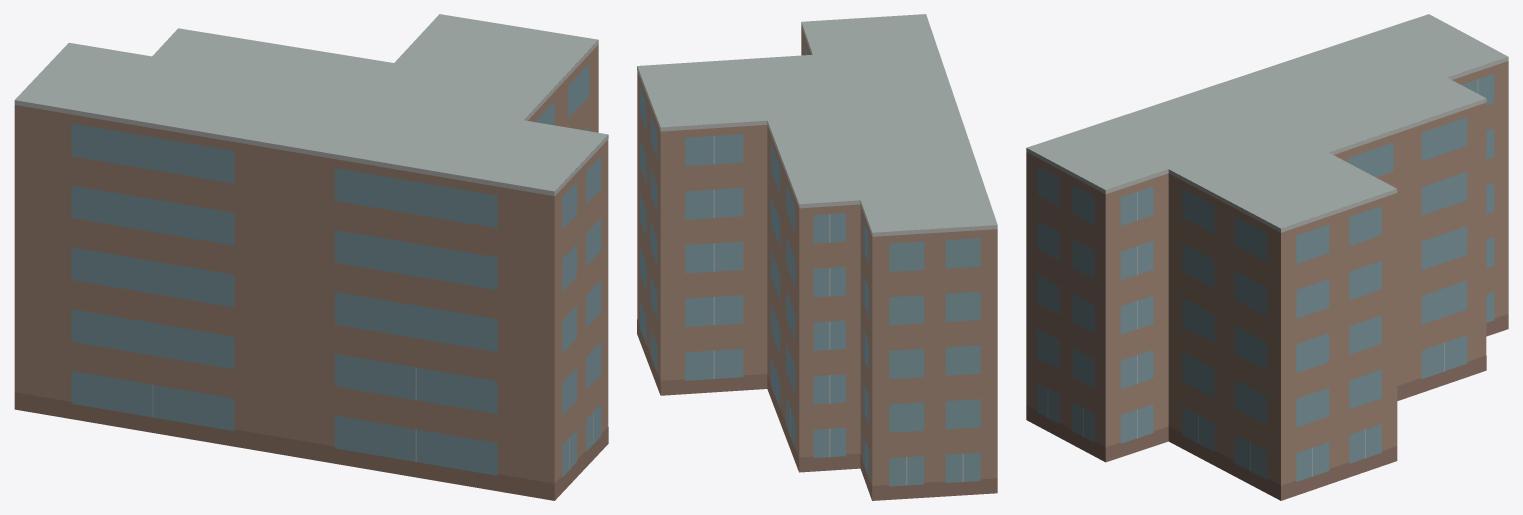
File: survey-upis-32648287.glb
3 renders of one model, left to right at view 1: azimuth 30°, elevation 25°; view 2: azimuth 150°, elevation 25°; view 3: azimuth 270°, elevation 25°, orthographic. The views are drawn at different scales.
Visible parts, largest first — view 1: survey-upis-32648287.tmp; view 2: survey-upis-32648287.tmp; view 3: survey-upis-32648287.tmp.
Boxes of the visible parts, x1,y1,x2,y2 form: survey-upis-32648287.tmp: (14, 14, 608, 500); survey-upis-32648287.tmp: (637, 14, 997, 500); survey-upis-32648287.tmp: (1026, 14, 1508, 500).
Size of the model in its own units: 27.07 by 16 by 25.7.
